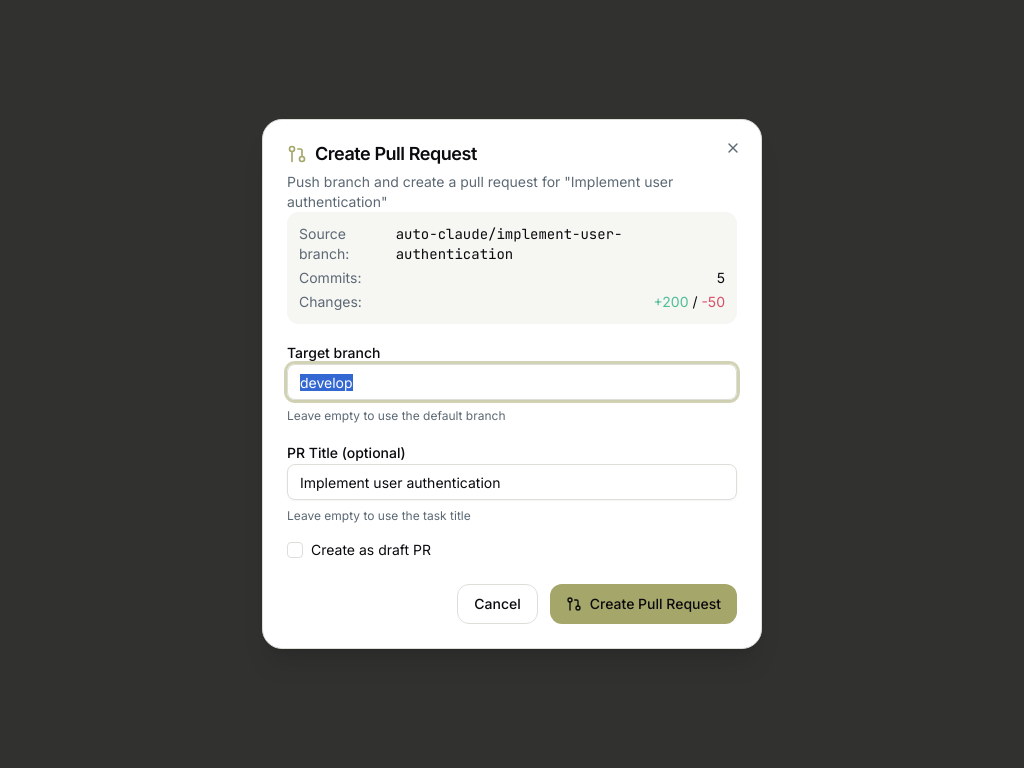
Test: CreatePRDialog › should show error state when PR creation fails
The width and height of the screenshot is (1024, 768).
Step 1. Click the button "Create Pull Request" → click(643, 604), box [550,584,737,624]
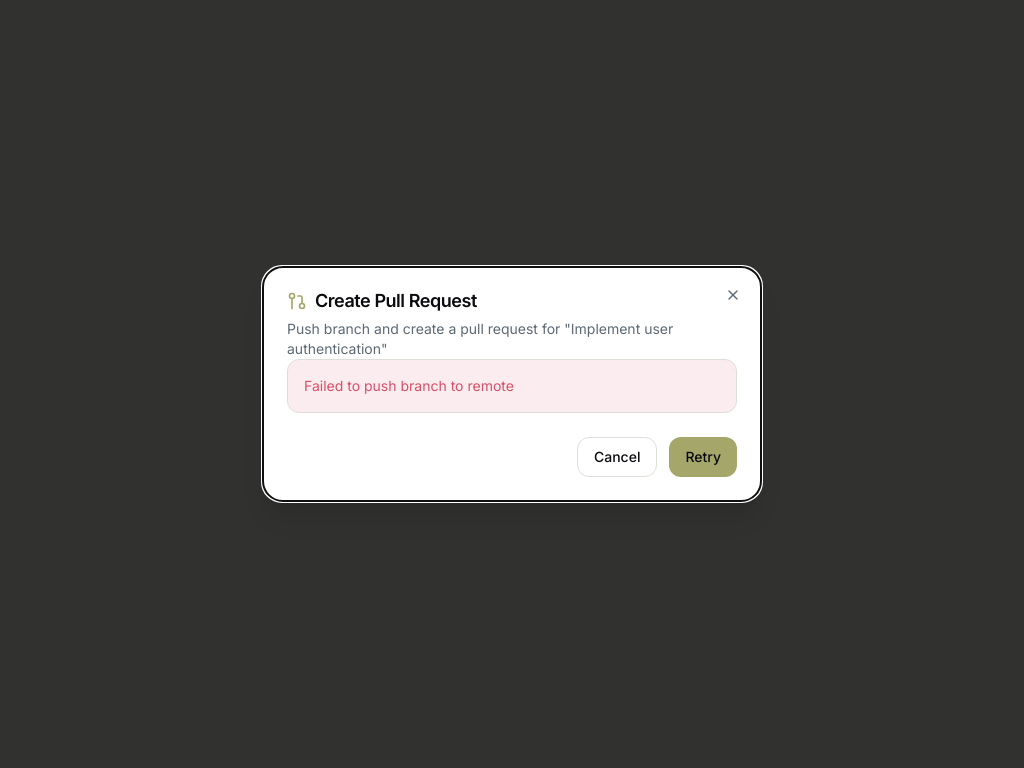
Now the text "Failed to push branch to remote" is shown, box [304,377,514,394]
